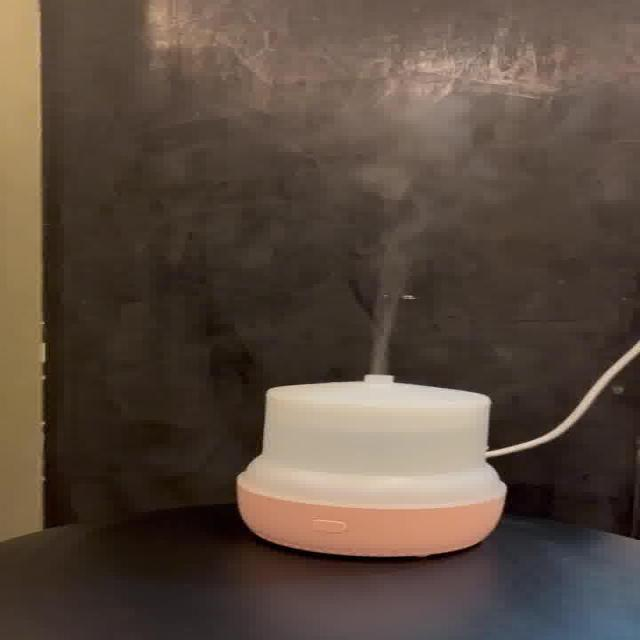fire: (338, 90, 524, 372)
